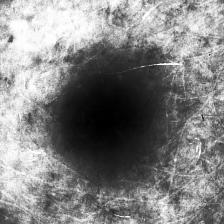Benign Marking or Mole: (54, 66, 154, 163)
